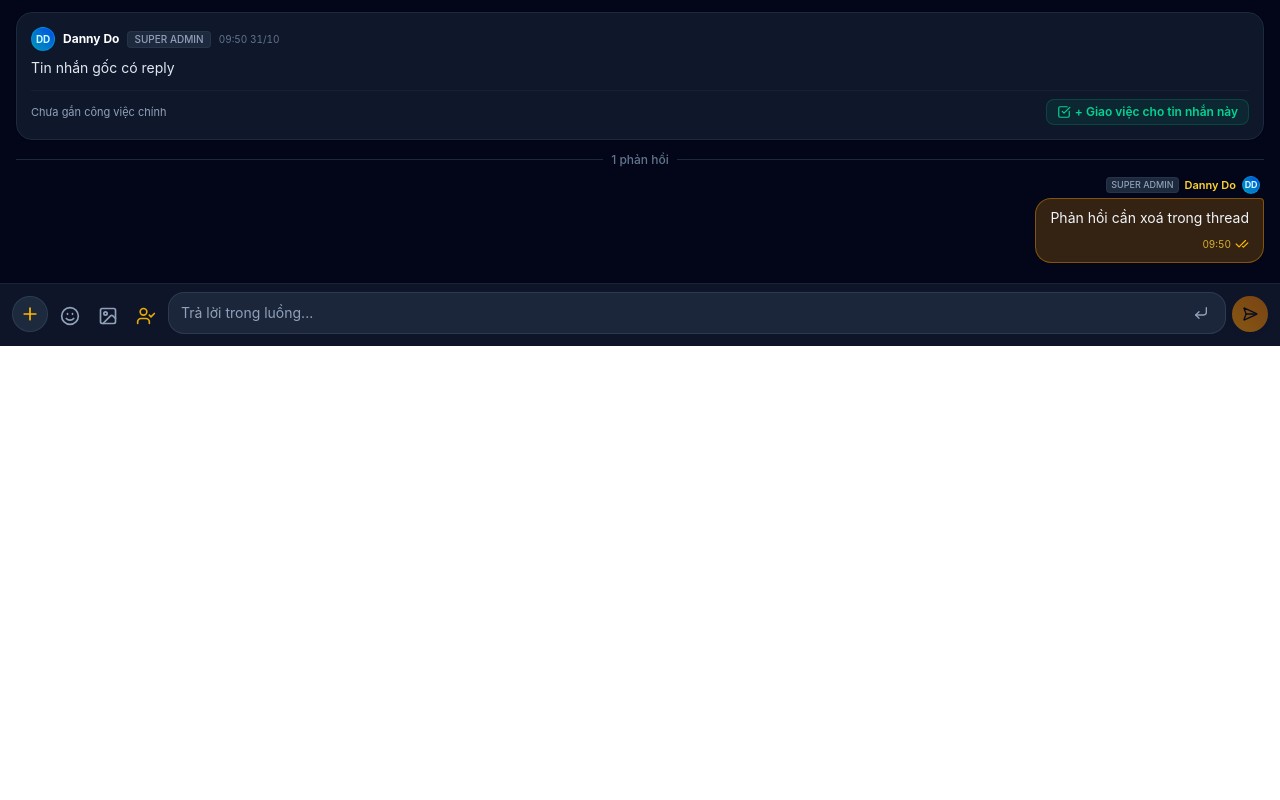
Test: MosChatMobileThreadSheet - Subthread Gate Approval on iPhone › allows deleting a thread reply on iPhone via action sheet and renders soft-deleted indicator (MOS-BUG-149)
expect the text "Phản hồi cần xoá trong thread" is shown: met, box [1050,207,1249,230]
// Trigger context menu on reply
Right-click the text "Phản hồi cần xoá trong thread" at point(1150, 219), box [1035,176,1264,263]
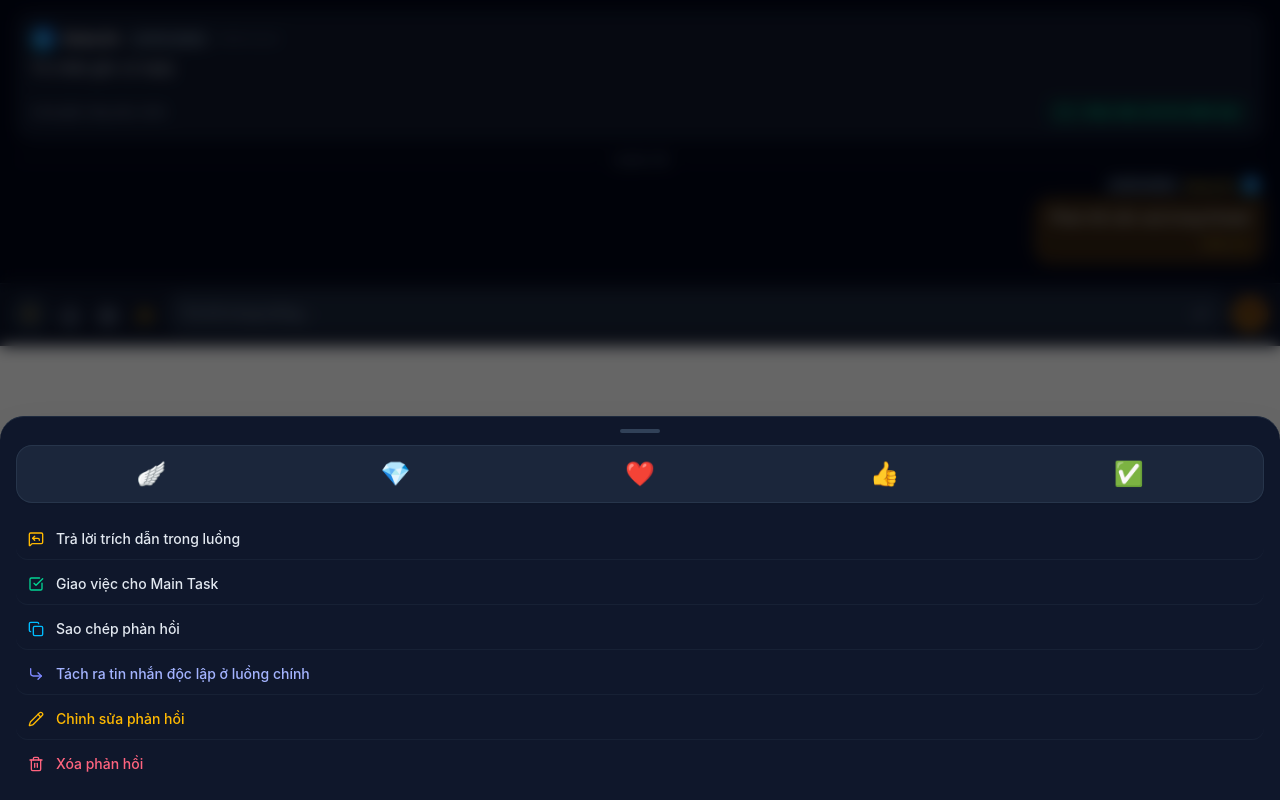
expect the text "Xóa phản hồi" is shown: met, box [56,754,143,774]
Click the button "Xóa phản hồi" at point(100, 764), box [16,744,1264,784]
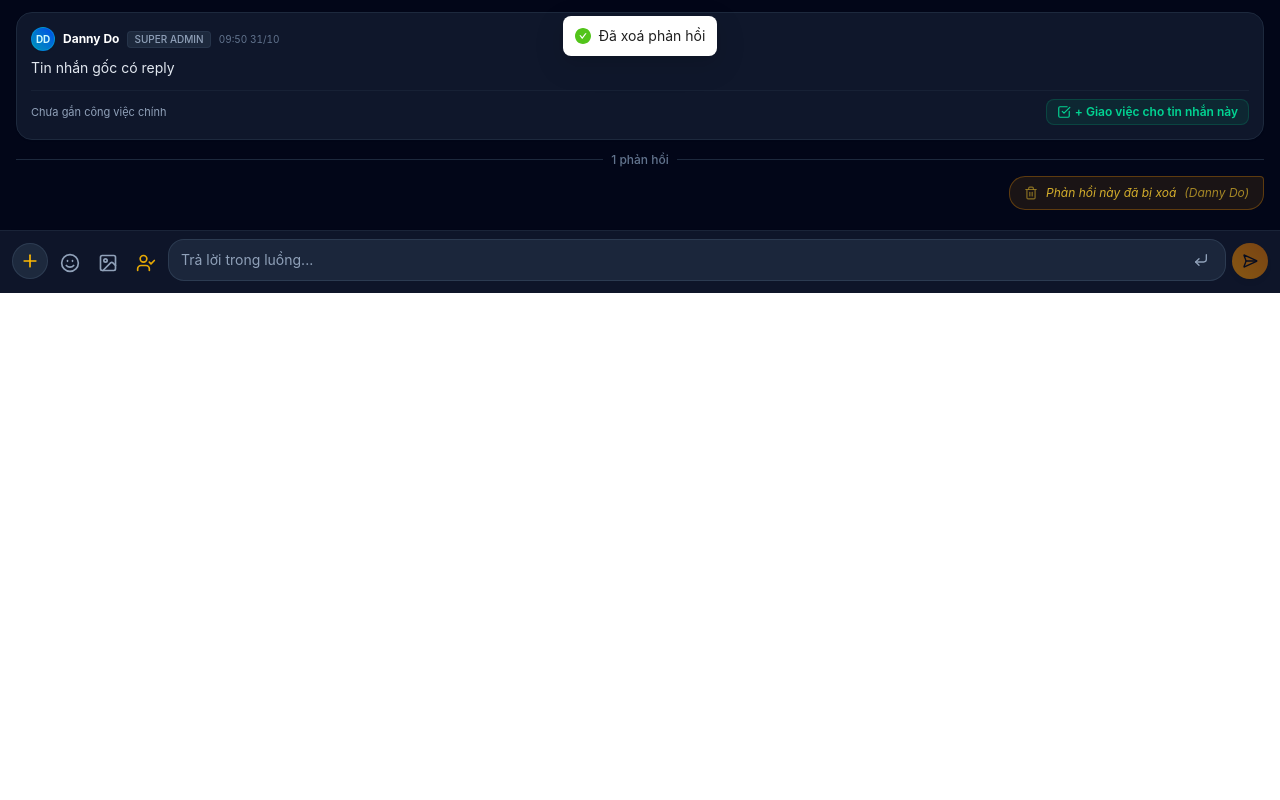
expect the text "Phản hồi này đã bị xoá" is shown: met, box [1046,185,1176,201]
